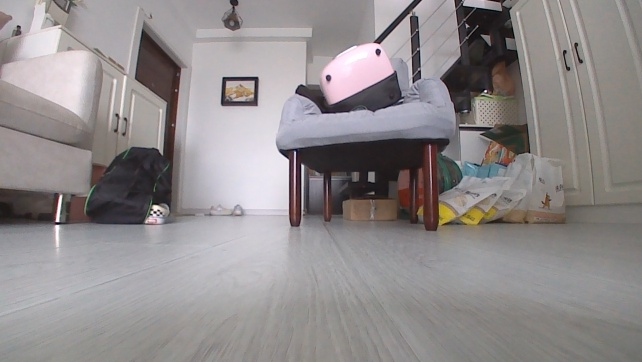sofa: (271, 39, 460, 236)
sofa1: (0, 44, 106, 227)
